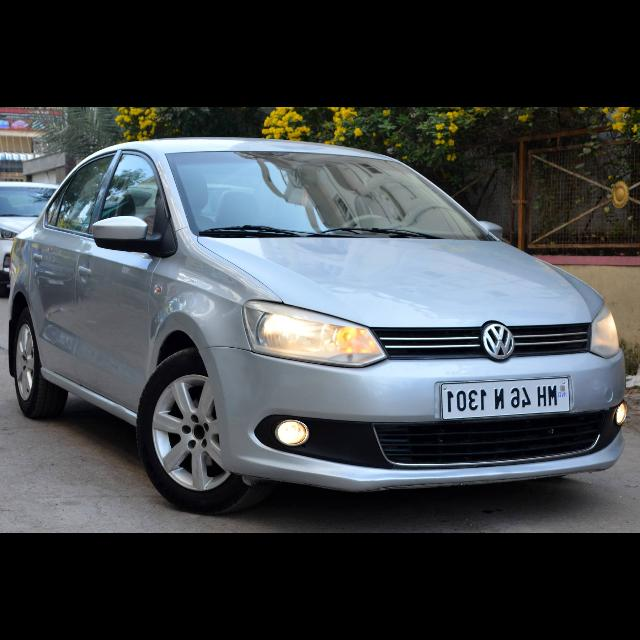number-plate: (440, 377, 573, 419)
vehicles: (8, 139, 630, 508), (1, 182, 58, 278)
